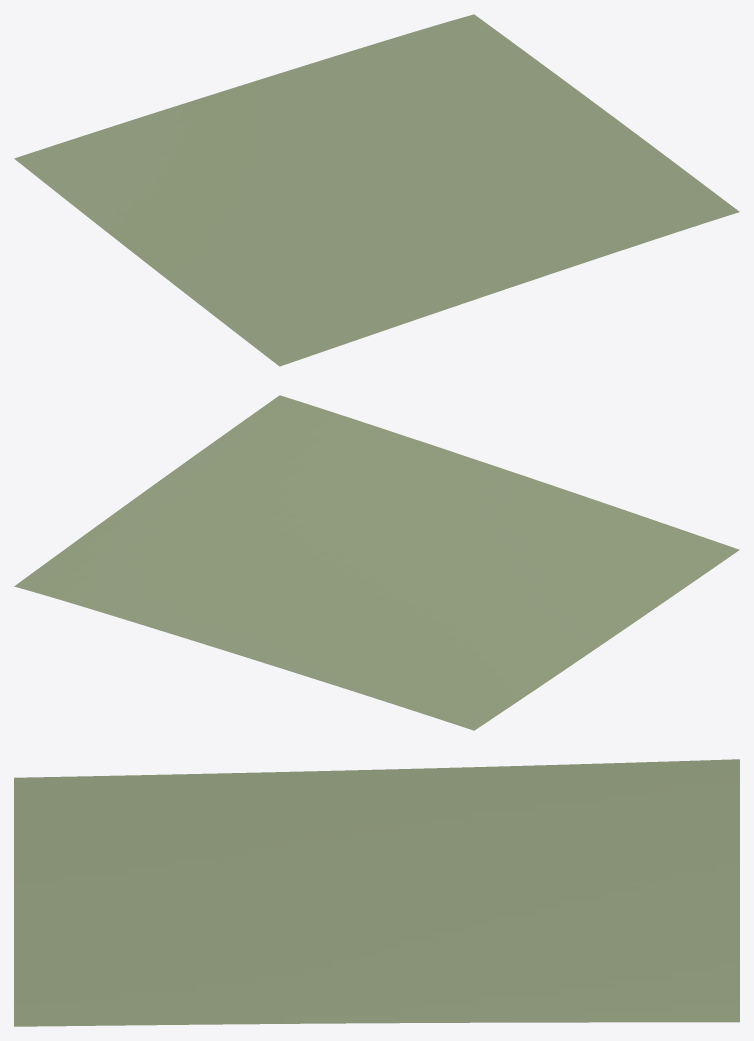
Rendered from desert-11-20.glb.
The picture shows the model from 3 angles, top to bottom: view 1: azimuth 30°, elevation 25°; view 2: azimuth 150°, elevation 25°; view 3: azimuth 270°, elevation 25°; orthographic projection. The views are drawn at different scales.
Parts seen in each view (by area): view 1: desert-11-20; view 2: desert-11-20; view 3: desert-11-20.
Part boxes in pixels (bbox=[...]): desert-11-20: bbox=[14, 14, 739, 366]; desert-11-20: bbox=[14, 395, 739, 730]; desert-11-20: bbox=[14, 759, 739, 1026].
Bounding box in the file's own units: 512 × 48.39 × 512.
